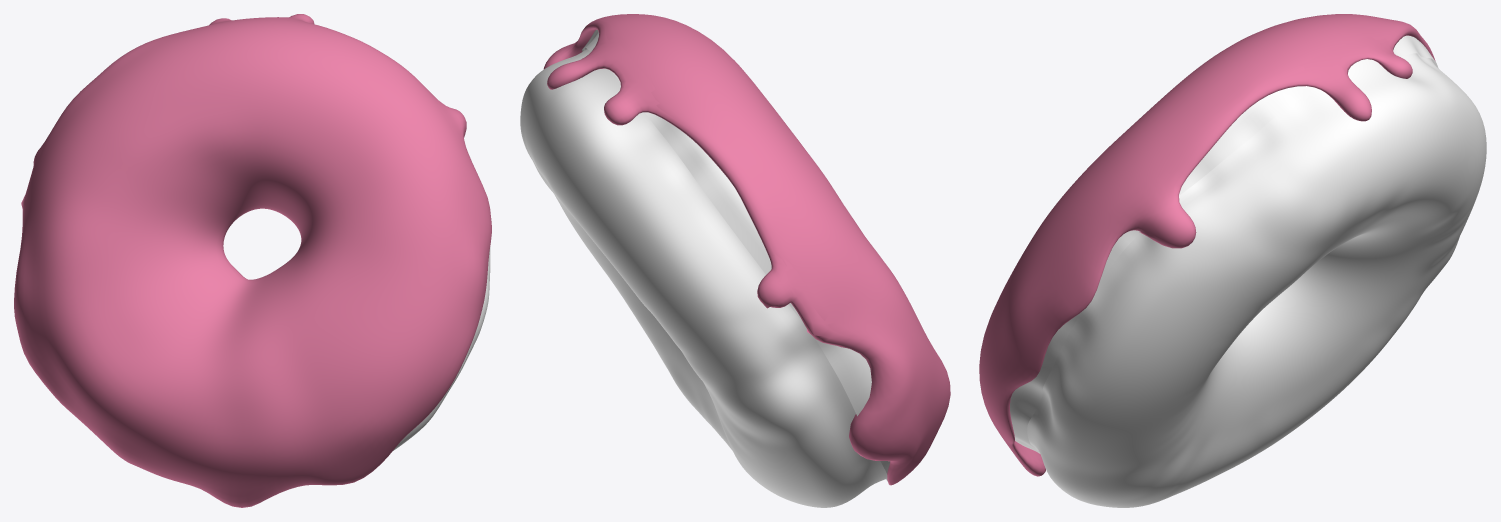
Rendered from donut_01.glb.
3 views of the same model, side by side, from view 1: azimuth 30°, elevation 25°; view 2: azimuth 150°, elevation 25°; view 3: azimuth 270°, elevation 25° (orthographic). The views are drawn at different scales.
Parts seen in each view (by area): view 1: Icing, Donut; view 2: Donut, Icing; view 3: Donut, Icing.
Boxes of the visible parts, box(x1,y1,x2,y2) form: Icing: box(14, 14, 491, 507); Donut: box(392, 247, 490, 451); Donut: box(520, 29, 890, 507); Icing: box(543, 14, 950, 485); Donut: box(1010, 35, 1486, 507); Icing: box(979, 14, 1435, 476).
Bounding box in the file's own units: 0.1138 × 0.1138 × 0.1076.
